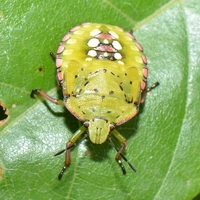insect: (31, 23, 158, 178)
